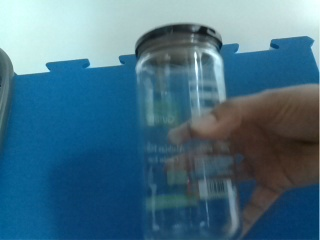pote cristal: (133, 23, 243, 240)
